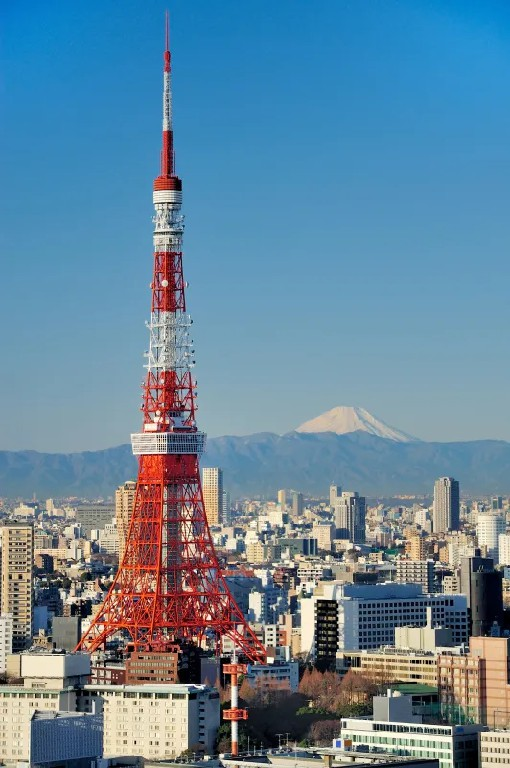Tokyo: (61, 4, 272, 672)
